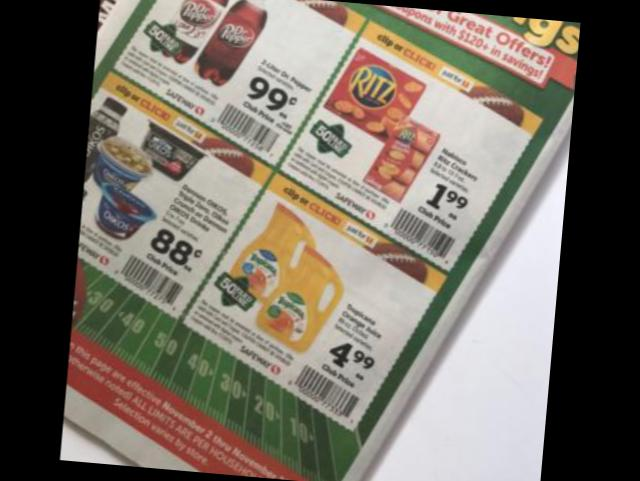cardboard paper: (63, 0, 581, 481)
